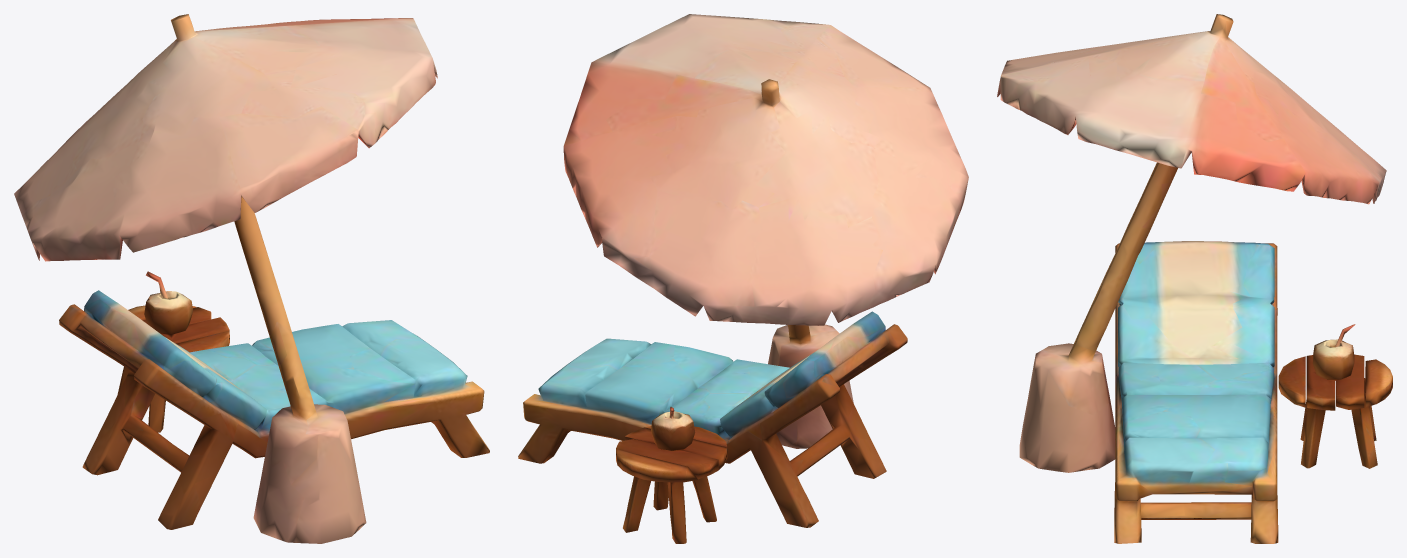
File: act_lounge.glb
3 renders of one model, left to right at view 1: azimuth 30°, elevation 25°; view 2: azimuth 150°, elevation 25°; view 3: azimuth 270°, elevation 25°, orthographic. The views are drawn at different scales.
Visible parts, largest first — view 1: tripo_node_9ccf6a3a-bcde-4441-a4e2-27fd7438ebaa; view 2: tripo_node_9ccf6a3a-bcde-4441-a4e2-27fd7438ebaa; view 3: tripo_node_9ccf6a3a-bcde-4441-a4e2-27fd7438ebaa.
Boxes of the visible parts, x1,y1,x2,y2 form: tripo_node_9ccf6a3a-bcde-4441-a4e2-27fd7438ebaa: (14,14,489,543); tripo_node_9ccf6a3a-bcde-4441-a4e2-27fd7438ebaa: (518,14,968,543); tripo_node_9ccf6a3a-bcde-4441-a4e2-27fd7438ebaa: (997,14,1392,543).
Size of the model in its own units: 0.962 by 1 by 0.8614.
1 material, 1 textured.
